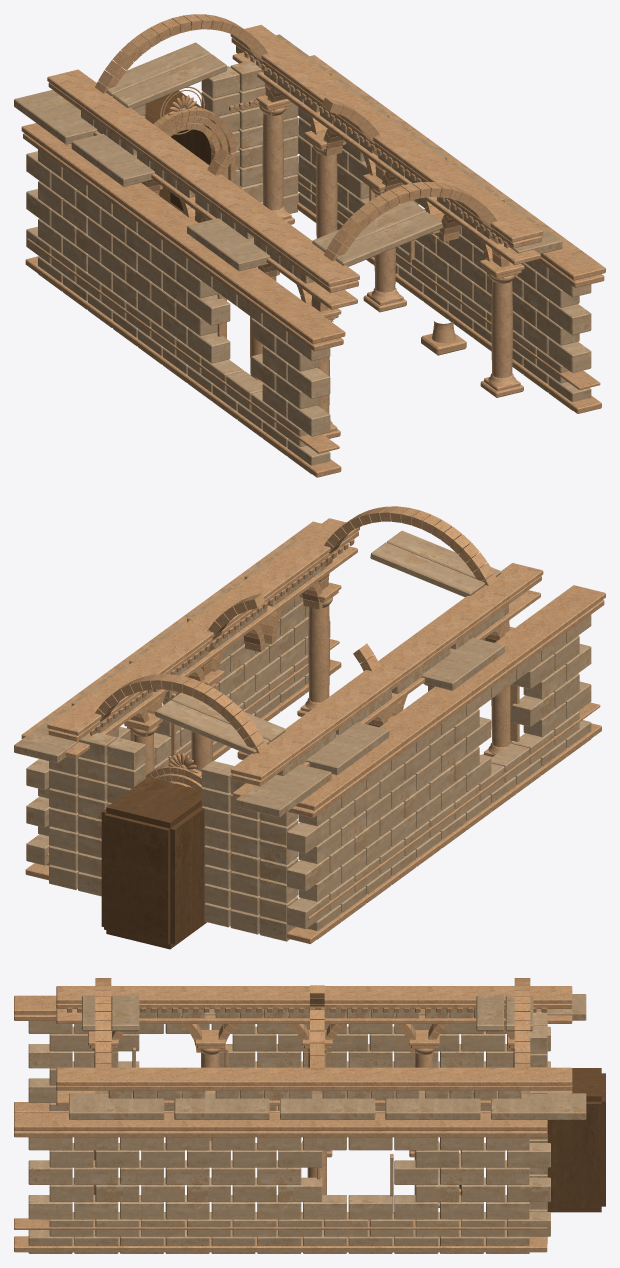
Rendered from sanctuary.glb.
The picture shows the model from 3 angles, top to bottom: view 1: azimuth 30°, elevation 25°; view 2: azimuth 150°, elevation 25°; view 3: azimuth 270°, elevation 25°; orthographic projection. The views are drawn at different scales.
Parts seen in each view (by area): view 1: Stone Sanctum - weathered architecture; view 2: Stone Sanctum - weathered architecture; view 3: Stone Sanctum - weathered architecture.
Part boxes in pixels (x1,y1,x2,y2): Stone Sanctum - weathered architecture: [14, 14, 605, 477]; Stone Sanctum - weathered architecture: [14, 506, 605, 949]; Stone Sanctum - weathered architecture: [14, 978, 605, 1253].
Bounding box in the file's own units: 10.59 × 7.92 × 20.2.
Materials: 5 (3 with a texture image).
